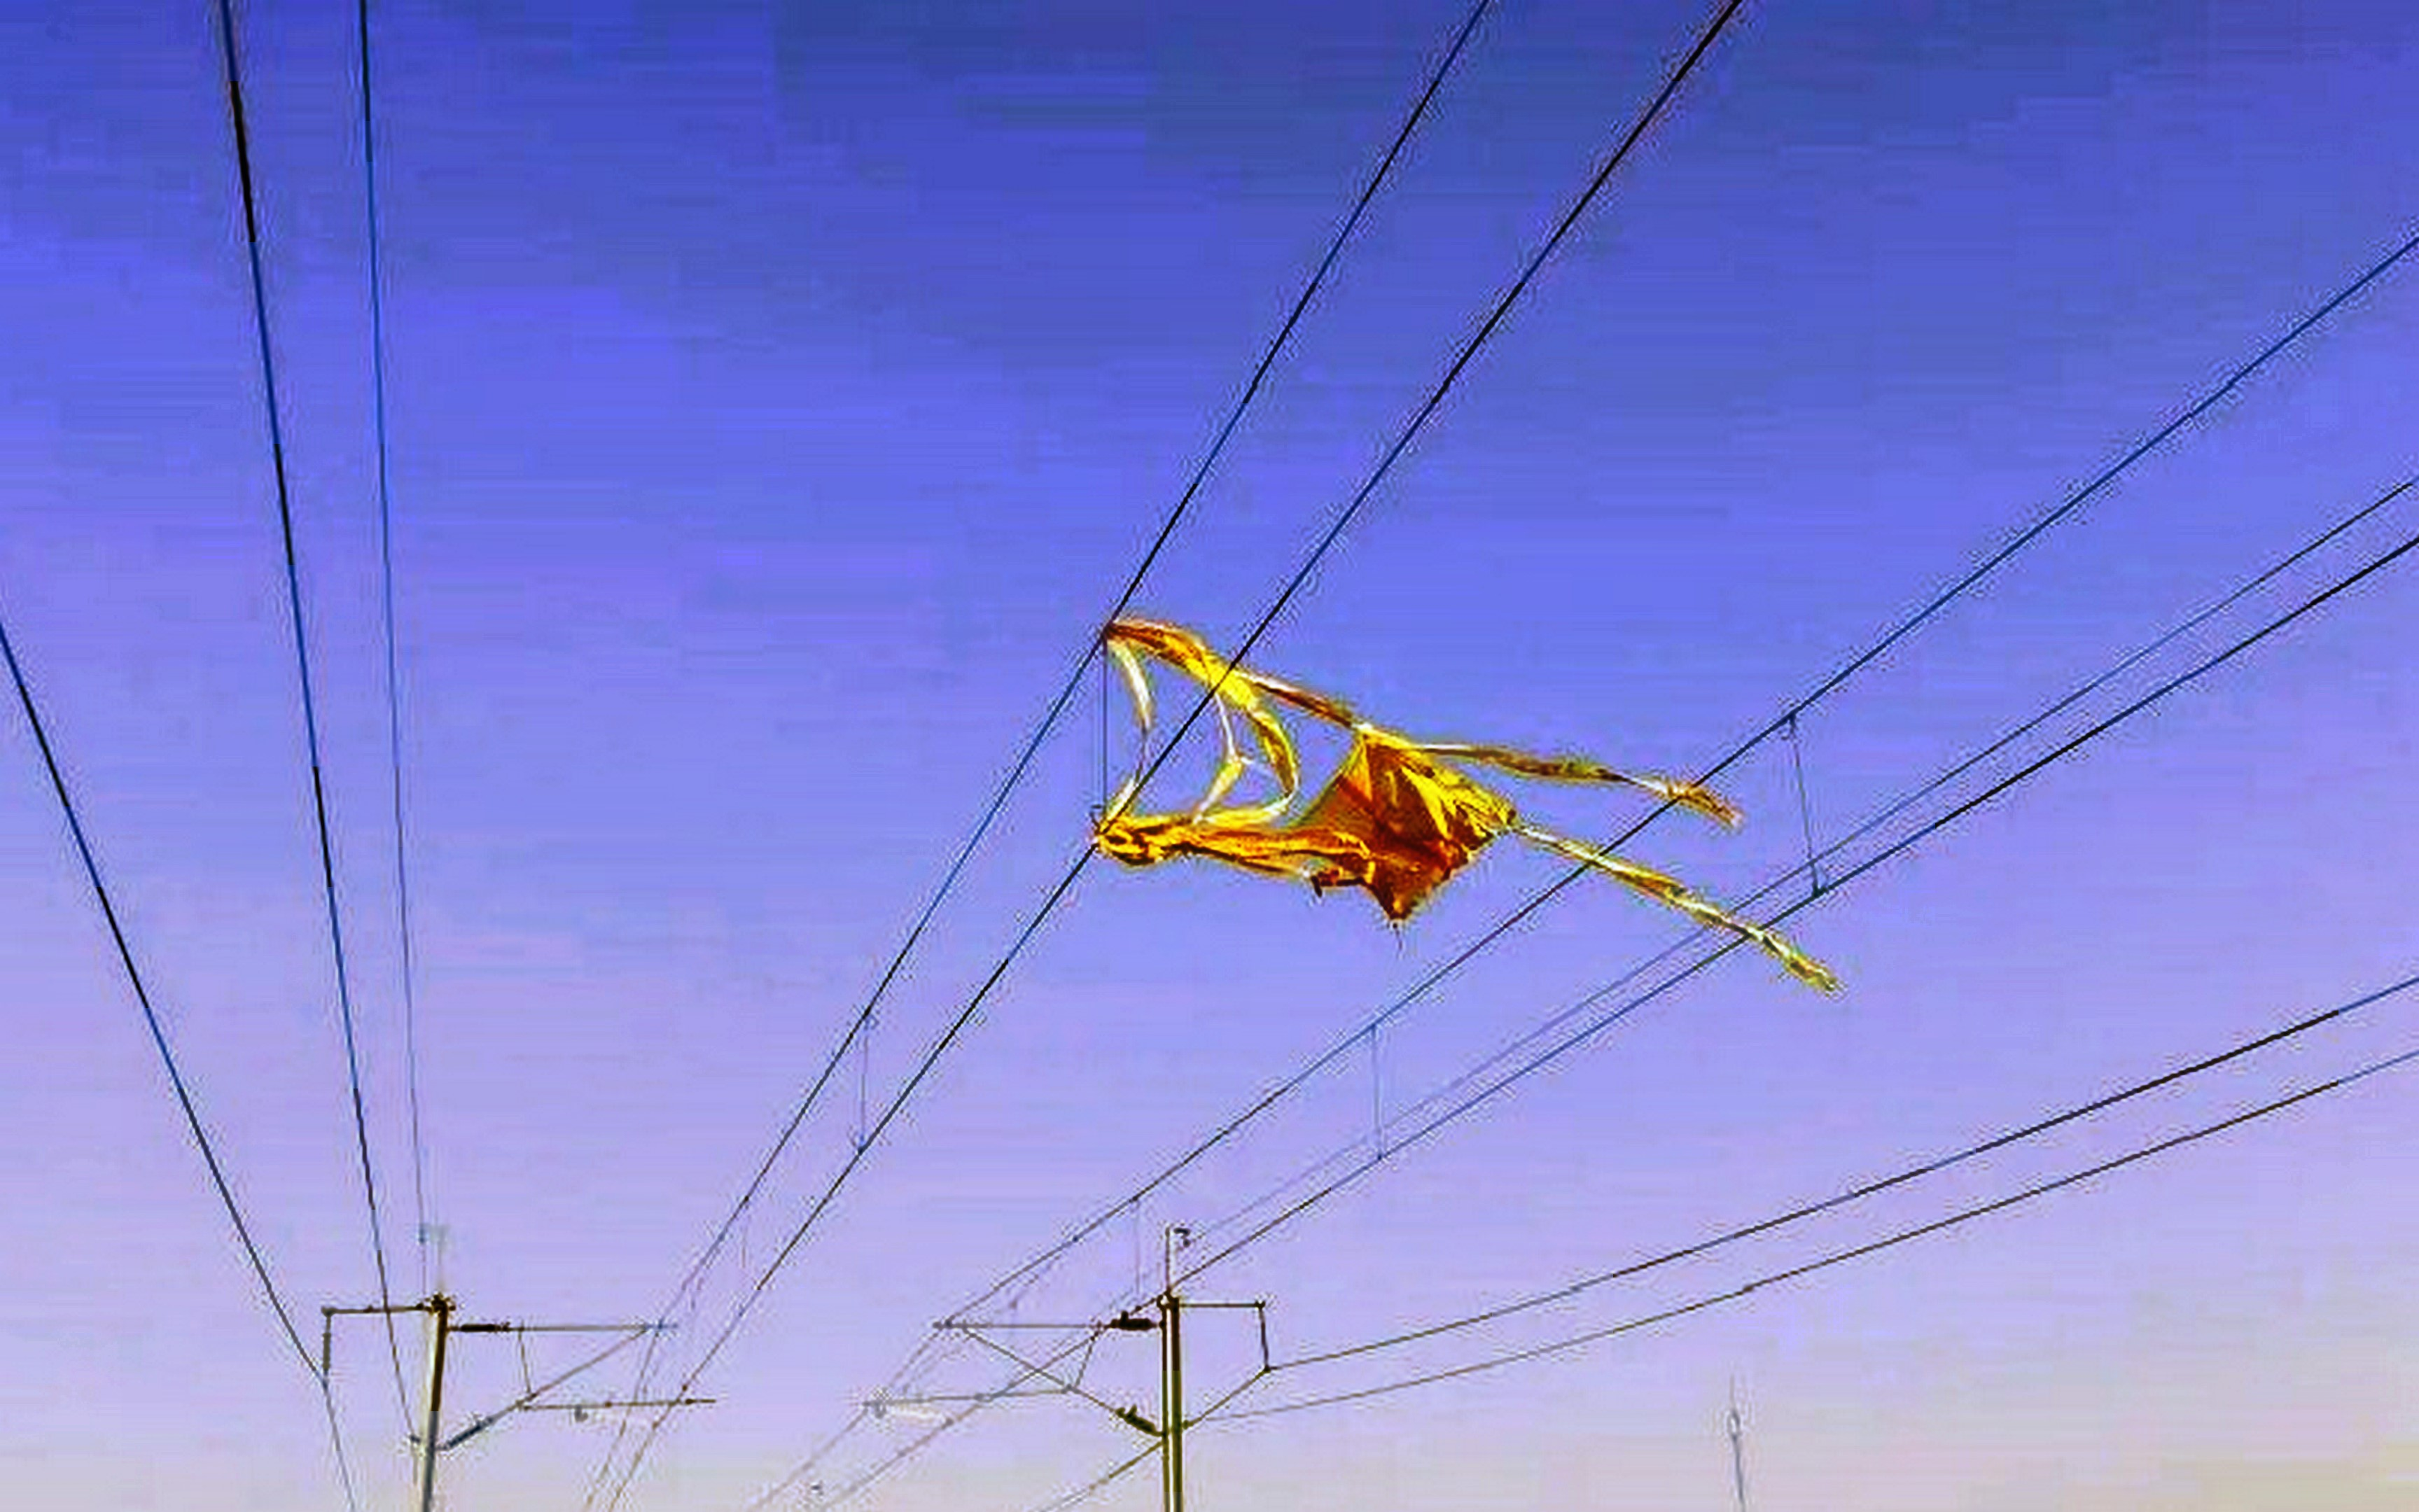wire foreign body: (1043, 587, 1841, 991)
